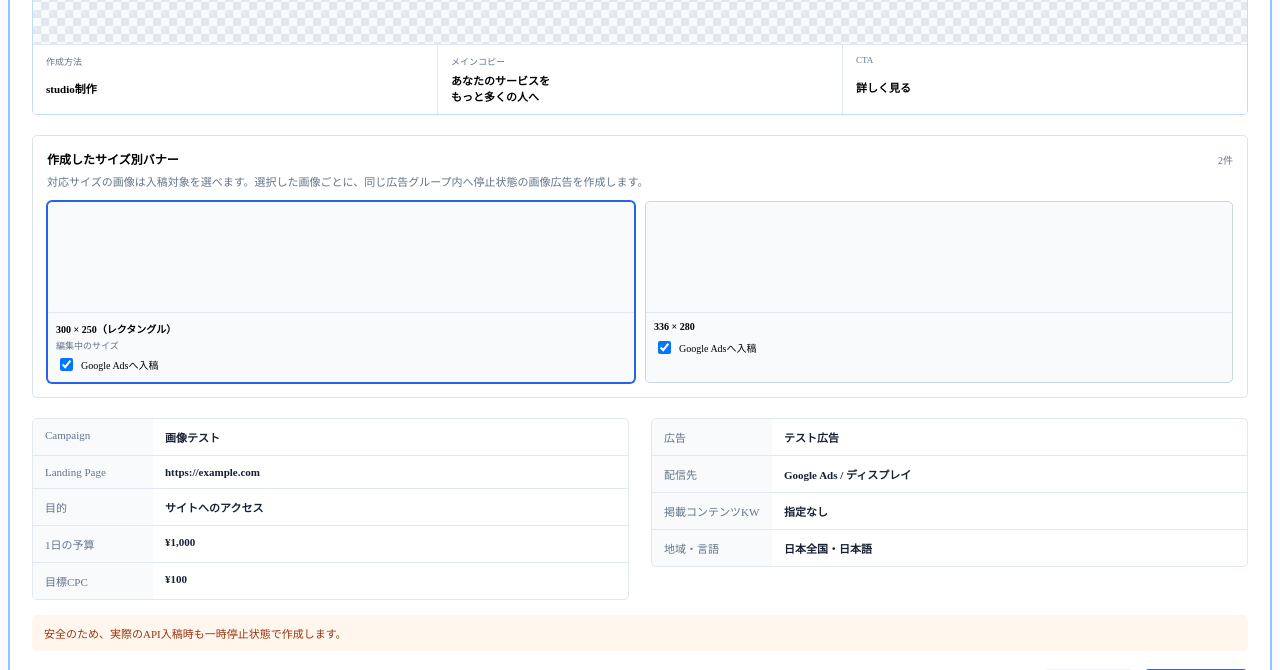
Test case: 入稿前Review › 対応サイズだけを入稿対象として選べる
(page scrolled)
Expected: the checkbox labelled "Google Adsへ入稿" below "編集中のサイズ" is checked, [60,358,73,371]
Click the checkbox labelled "Google Adsへ入稿" below "336 × 280". click: (664, 348)
box: [658,341,671,354]
(page scrolled)
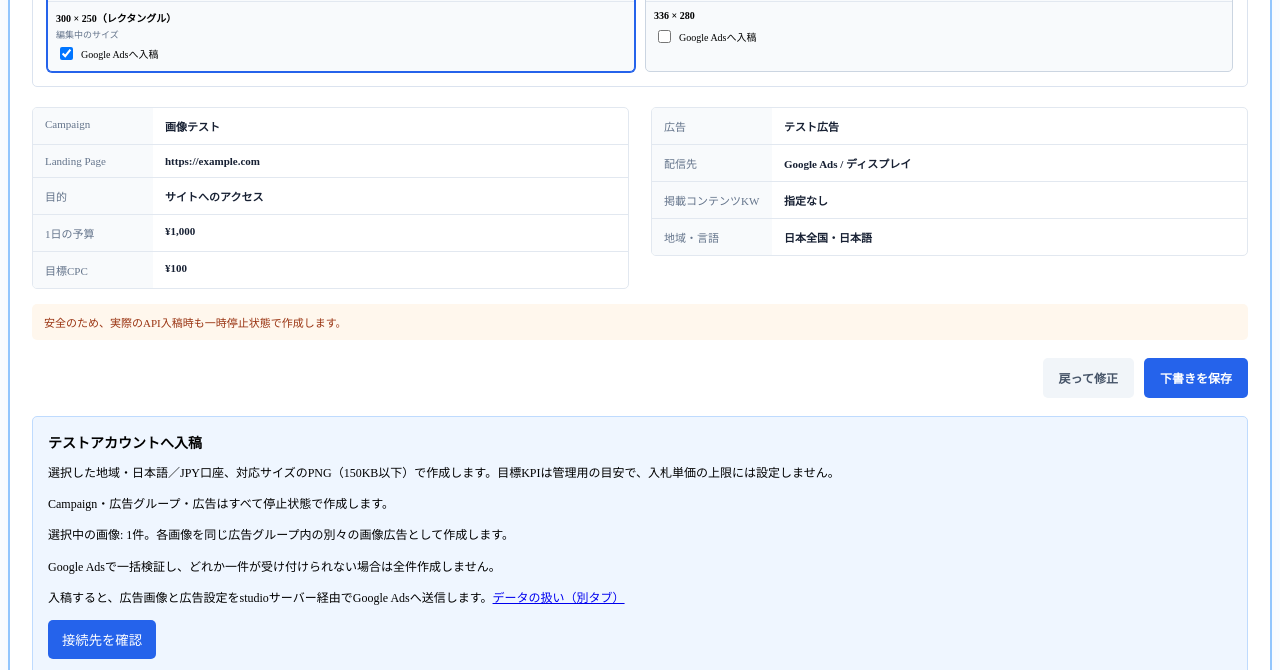
Result: the checkbox labelled "Google Adsへ入稿" below "336 × 280" is not checked at [658,30,671,43]
Result: the text "選択中の画像: 1件。各画像を同じ広告グループ内の別々の画像広告として作成します。" is shown at [48,528,514,542]
